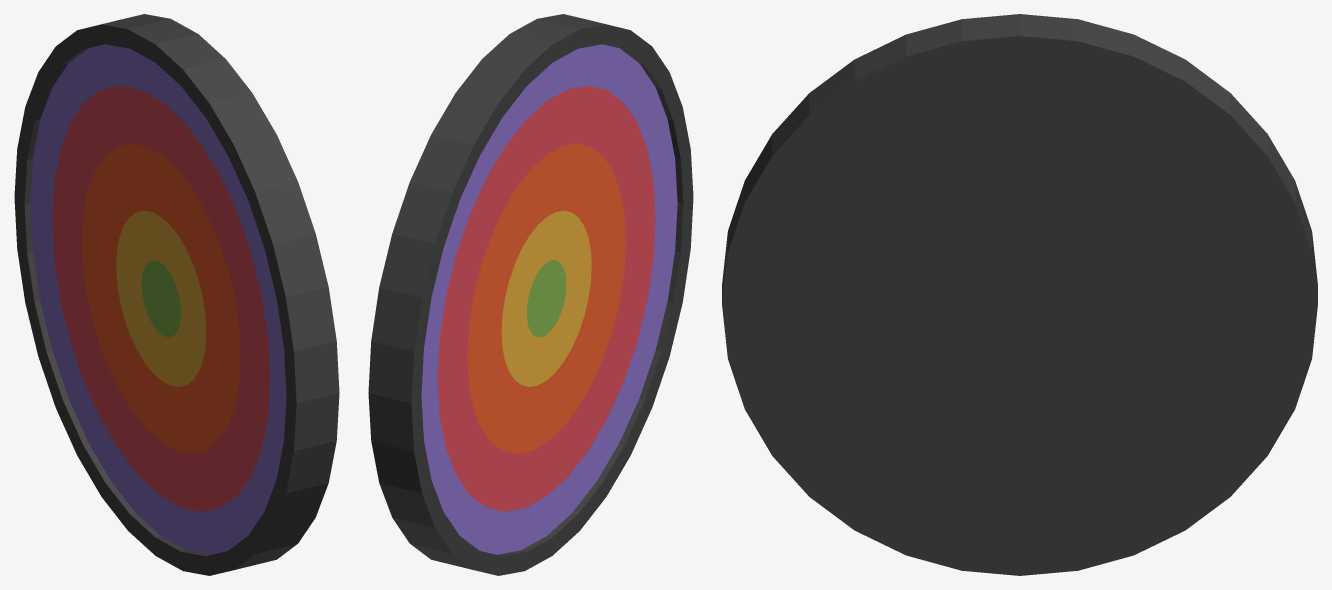
Rendered from Parcali_Dart.fbx.
3 renders of one model, left to right at view 1: azimuth 30°, elevation 25°; view 2: azimuth 150°, elevation 25°; view 3: azimuth 270°, elevation 25°, orthographic. The views are drawn at different scales.
Parts seen in each view (by area): view 1: Dart, Dart.004, Dart.005, Dart.003, Dart.002, Dart.001; view 2: Dart, Dart.004, Dart.005, Dart.003, Dart.002, Dart.001; view 3: Dart.
Boxes of the visible parts, x1,y1,x2,y2 form: Dart: (14,14,339,575); Dart.004: (52,85,270,511); Dart.005: (30,44,286,554); Dart.003: (82,143,240,453); Dart.002: (116,210,206,386); Dart.001: (141,260,180,337); Dart: (368,14,693,575); Dart.004: (437,85,655,511); Dart.005: (421,44,677,554); Dart.003: (467,143,625,453); Dart.002: (501,210,591,386); Dart.001: (527,260,566,337); Dart: (722,14,1317,575).
Bounding box in the file's own units: 52.61 × 600 × 600.
